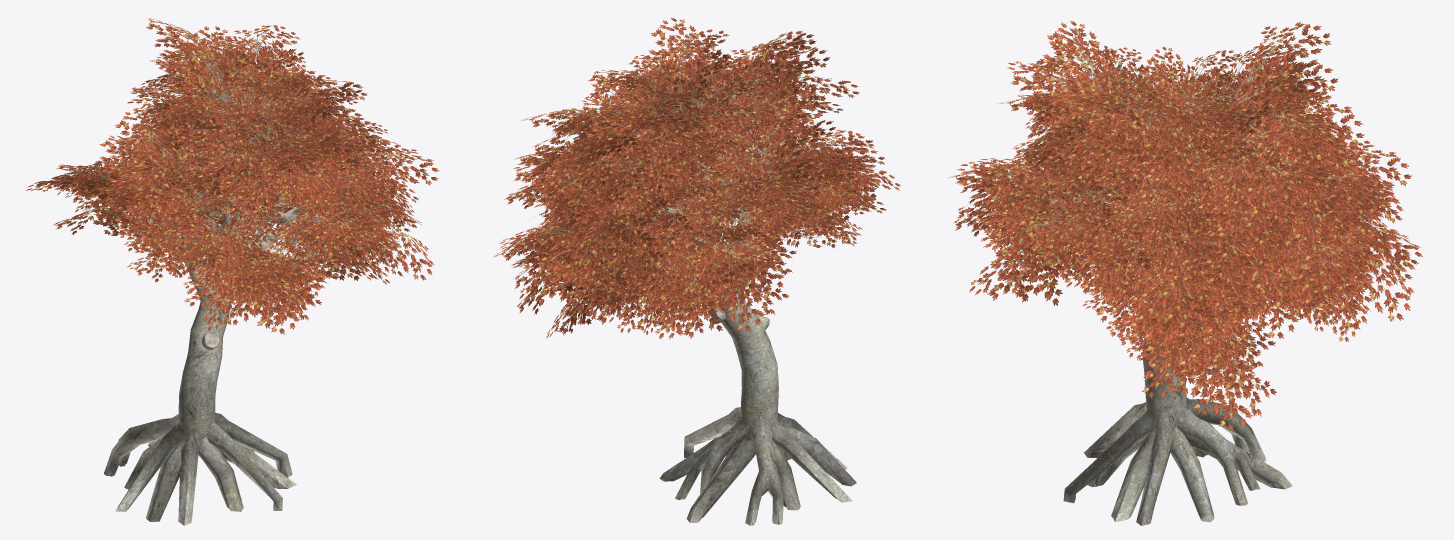
The model's file is tree.obj.
3 renders of one model, left to right at view 1: azimuth 30°, elevation 25°; view 2: azimuth 150°, elevation 25°; view 3: azimuth 270°, elevation 25°, orthographic. The views are drawn at different scales.
Visible parts, largest first — view 1: yggrassil_02; view 2: yggrassil_02; view 3: yggrassil_02.
Boxes of the visible parts, x1,y1,x2,y2 form: yggrassil_02: [26, 18, 439, 525]; yggrassil_02: [493, 18, 900, 525]; yggrassil_02: [948, 20, 1422, 525].
Bounding box in the file's own units: 10.02 × 11.72 × 11.52.
Materials: 3 (3 with a texture image).
